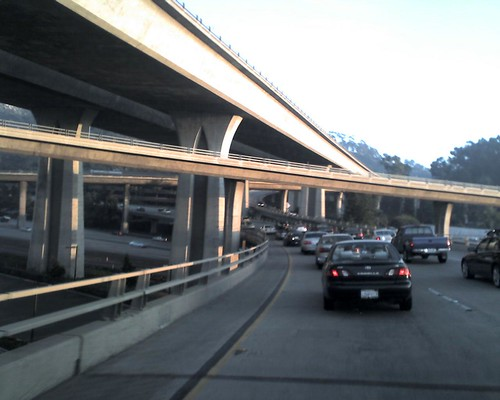bridge: (1, 1, 356, 180), (1, 117, 481, 233)
car: (317, 237, 416, 311), (394, 221, 450, 264)
sky: (241, 3, 500, 123)
street: (72, 243, 500, 400)
